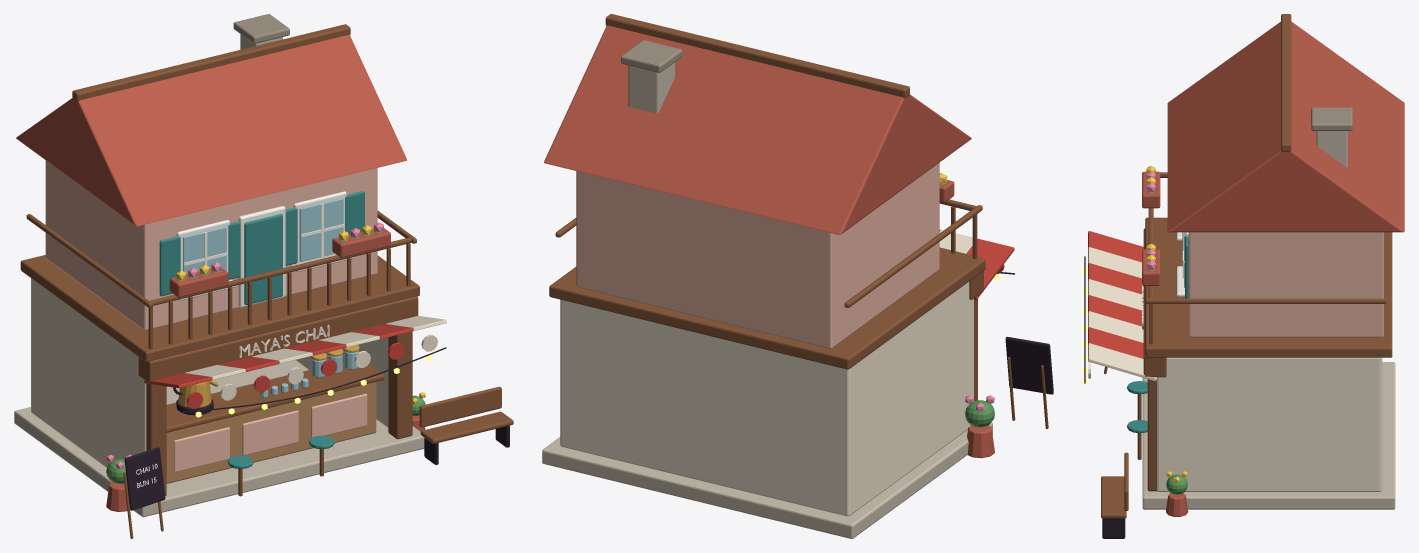
The model's file is chai_shop.glb.
3 renders of one model, left to right at view 1: azimuth 30°, elevation 25°; view 2: azimuth 150°, elevation 25°; view 3: azimuth 270°, elevation 25°, orthographic. The views are drawn at different scales.
Parts seen in each view (by area): view 1: chai_shop; view 2: chai_shop; view 3: chai_shop.
Boxes of the visible parts, x1,y1,x2,y2 form: chai_shop: [14, 14, 513, 538]; chai_shop: [542, 14, 1053, 538]; chai_shop: [1082, 14, 1404, 538].
Size of the model in its own units: 7.58 by 6.98 by 5.62.
